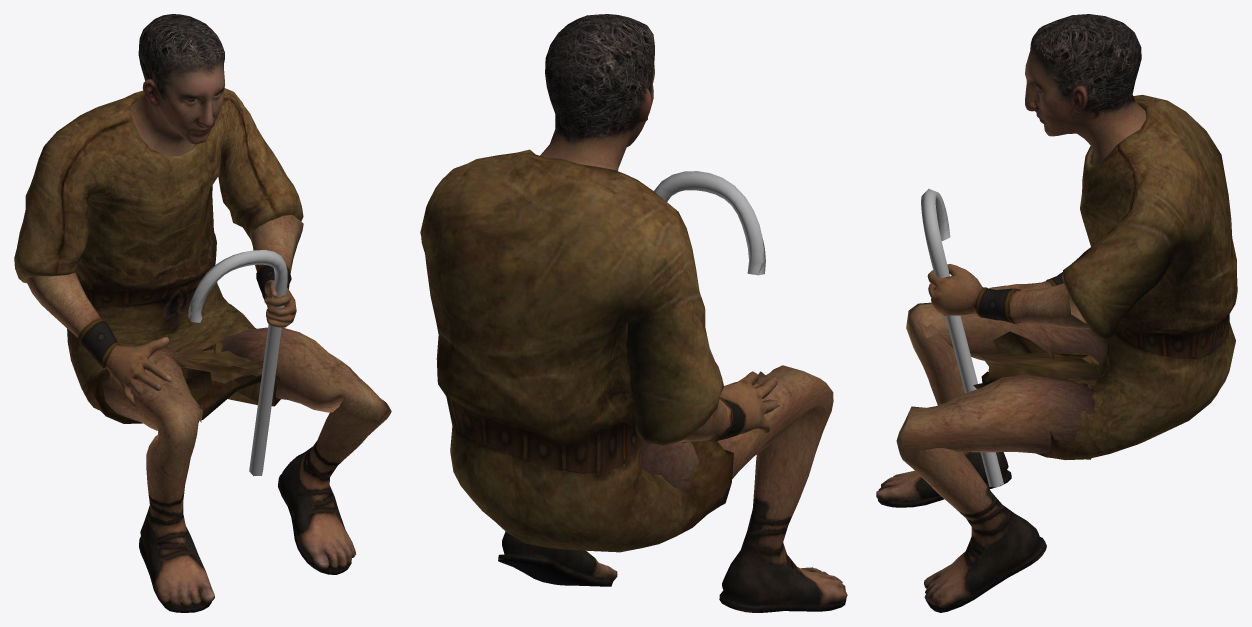
File: human.fbx
3 renders of one model, left to right at view 1: azimuth 30°, elevation 25°; view 2: azimuth 150°, elevation 25°; view 3: azimuth 270°, elevation 25°, orthographic. The views are drawn at different scales.
Visible parts, largest first — view 1: polySurface7, polySurface11, polySurface9, polySurface6, polySurface8, sheperd_stickgroup1magnet, polySurface10; view 2: polySurface7, polySurface9, polySurface6, polySurface11, polySurface8, sheperd_stickgroup1magnet; view 3: polySurface7, polySurface11, polySurface6, polySurface9, polySurface10, sheperd_stickgroup1magnet.
Boxes of the visible parts, x1,y1,x2,y2 form: polySurface7: [14, 88, 303, 423]; polySurface11: [221, 327, 391, 574]; polySurface9: [101, 348, 214, 612]; polySurface6: [130, 14, 225, 156]; polySurface8: [26, 272, 172, 407]; sheperd_stickgroup1magnet: [188, 250, 287, 476]; polySurface10: [250, 214, 303, 327]; polySurface7: [420, 149, 733, 552]; polySurface9: [637, 365, 847, 612]; polySurface6: [540, 14, 654, 170]; polySurface11: [498, 531, 617, 586]; polySurface8: [681, 371, 779, 441]; sheperd_stickgroup1magnet: [654, 171, 765, 275]; polySurface7: [973, 94, 1237, 460]; polySurface11: [896, 374, 1094, 612]; polySurface6: [1025, 14, 1146, 164]; polySurface9: [876, 302, 1107, 507]; polySurface10: [927, 264, 1089, 329]; sheperd_stickgroup1magnet: [921, 188, 1003, 487].
Size of the model in its own units: 69.2 by 136 by 81.62.
Materials: 3 (2 with a texture image).
